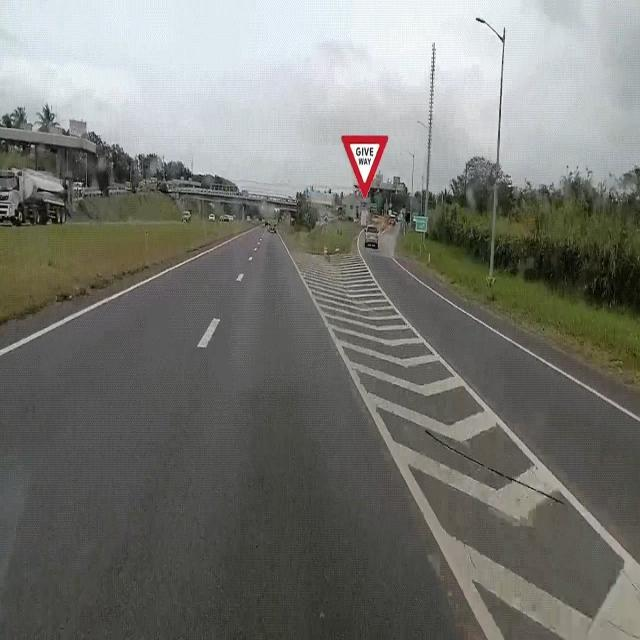Ceder-le-Passage: (336, 121, 396, 208)
